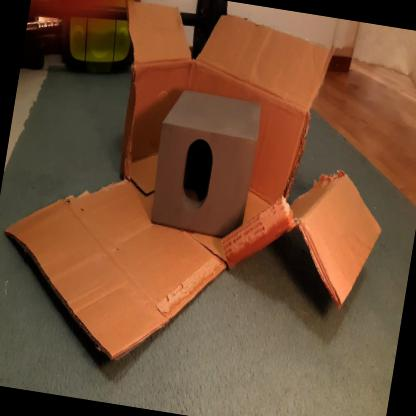CornerCasting: (140, 80, 269, 246)
